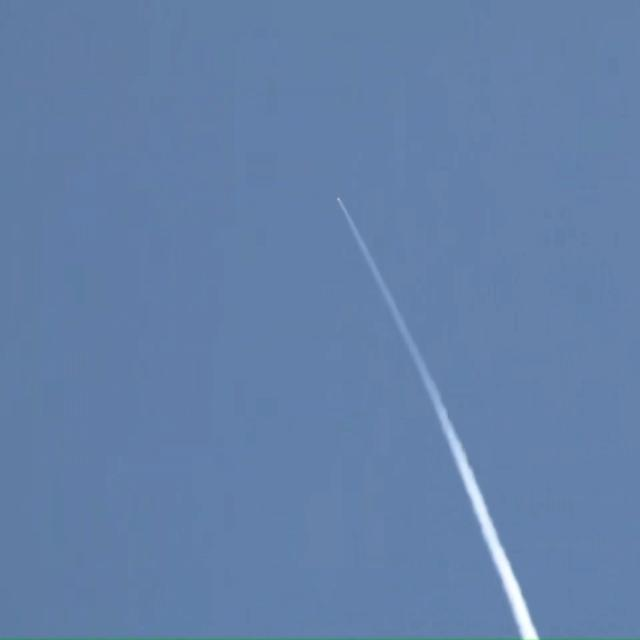Rocket: (336, 194, 340, 199)
